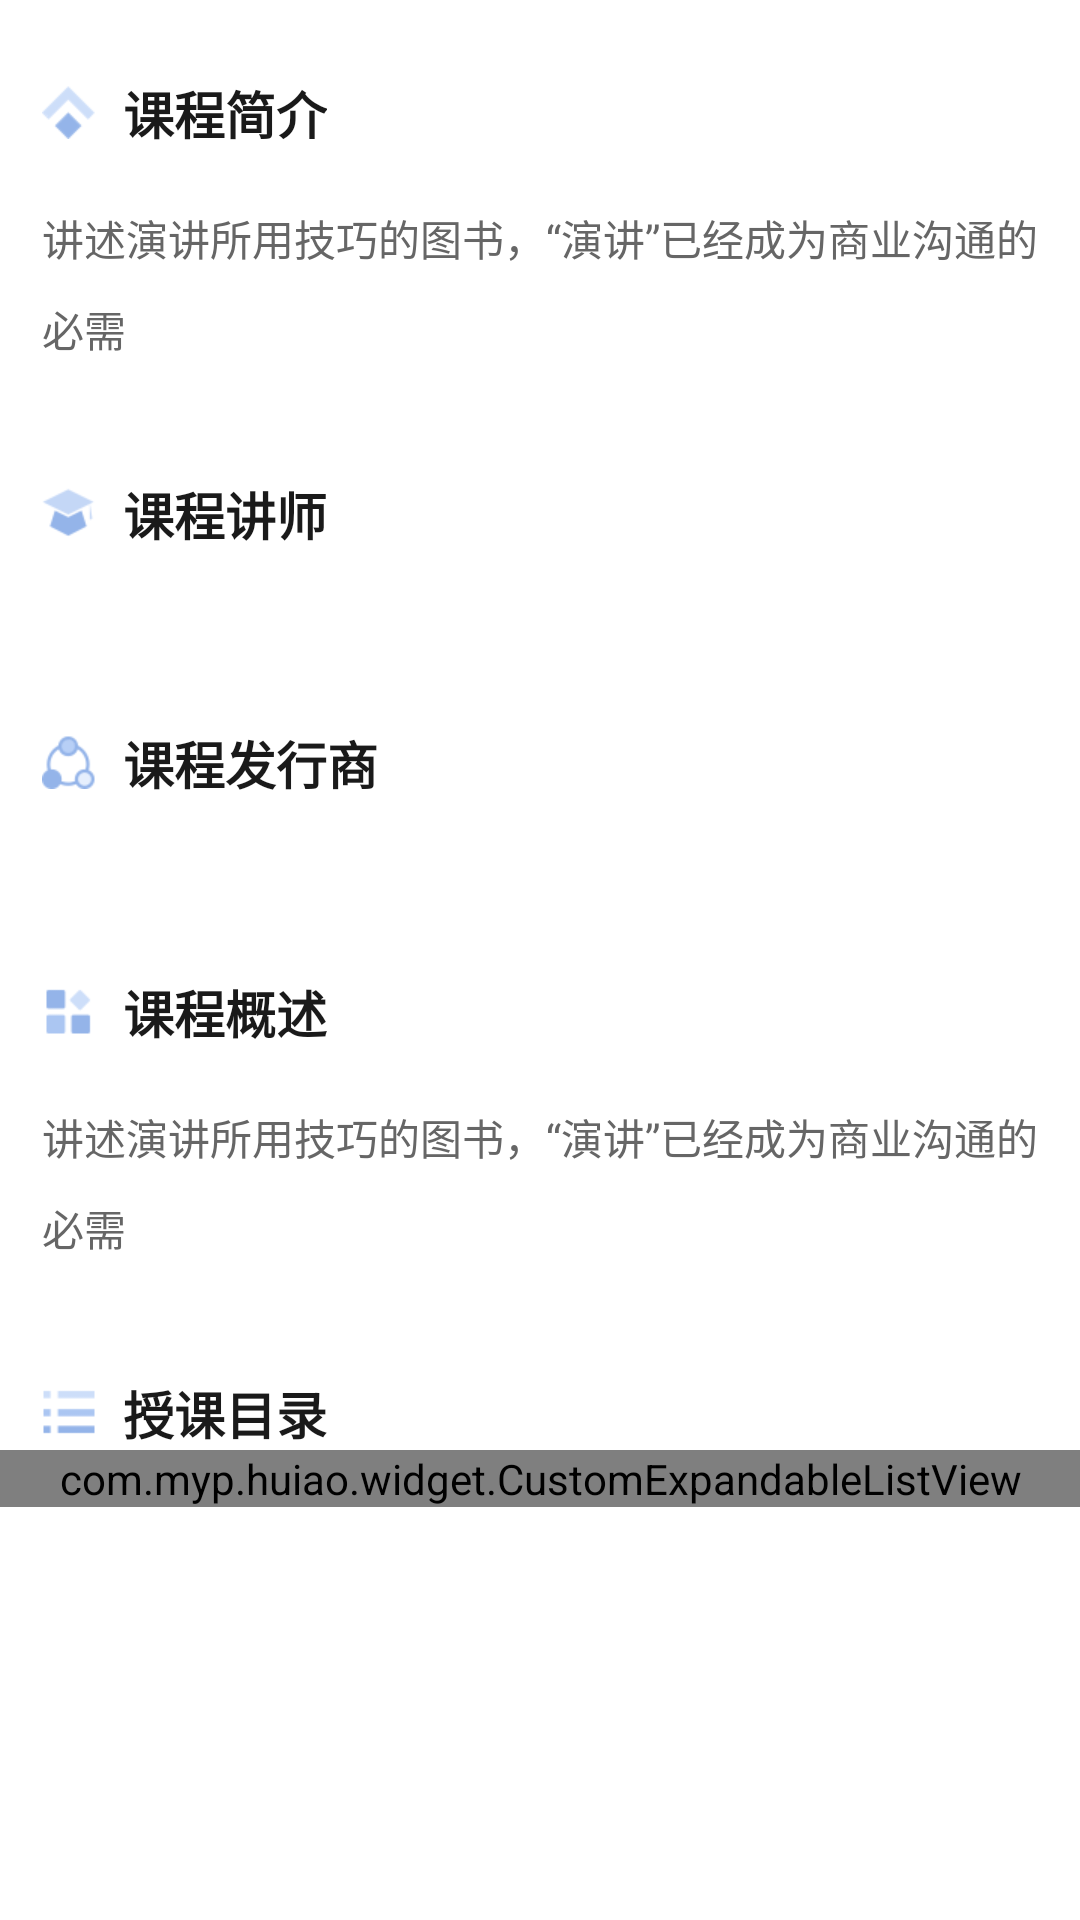

Icon bounding boxes for this 1080 x 1920 phone screenshot, format {"left": x1, "top": y1, "right": x2, "bottom": y2}:
gaishu: {"left": 46, "top": 990, "right": 90, "bottom": 1034}
jiangshi: {"left": 44, "top": 489, "right": 93, "bottom": 536}
mulu: {"left": 43, "top": 1391, "right": 95, "bottom": 1433}
